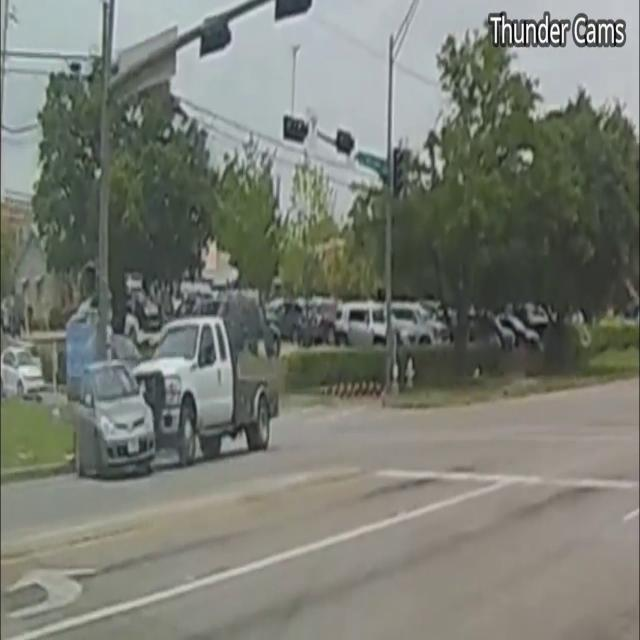accident: (64, 297, 304, 480)
